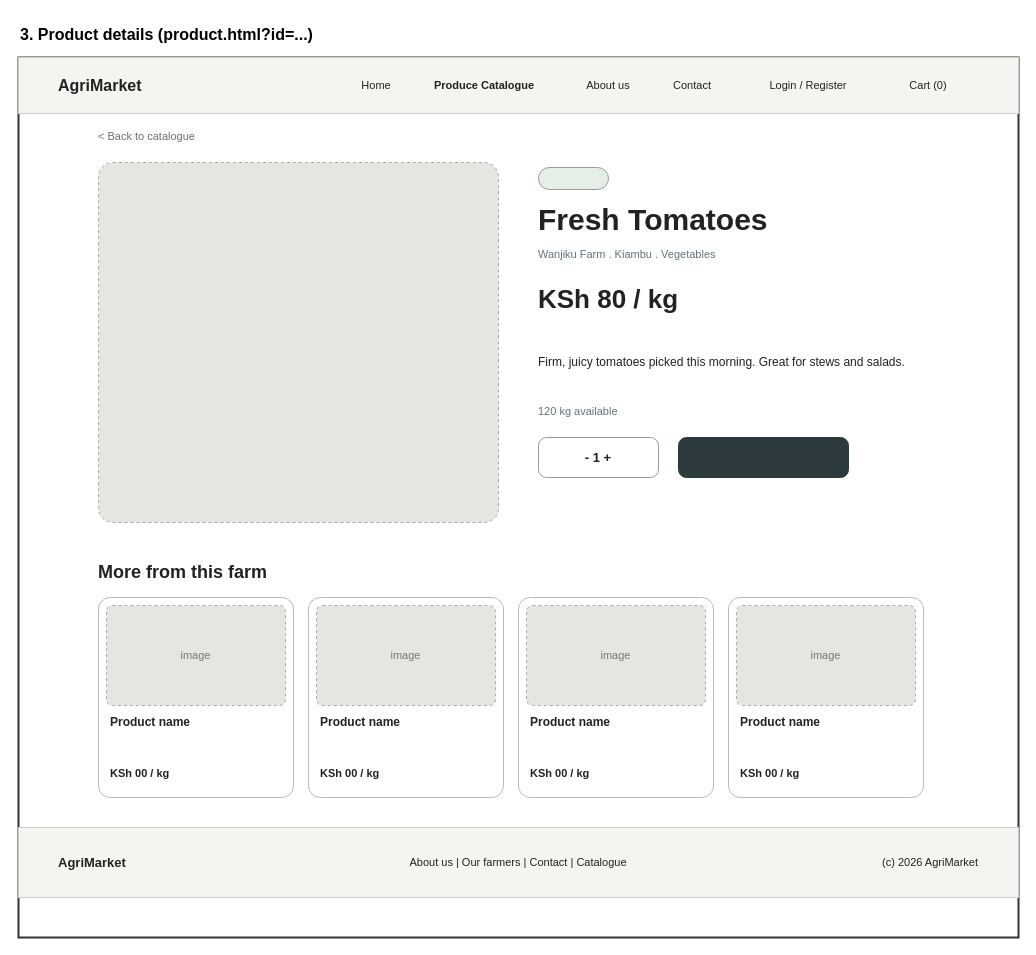
Image size: 1036x955. Some labels were removed from this diagram. Each missing label, with the centre of its shape:
"Add to cart" goes at (x=763, y=457).
"Large product image" goes at (x=298, y=342).
"Popular" goes at (x=573, y=178).
